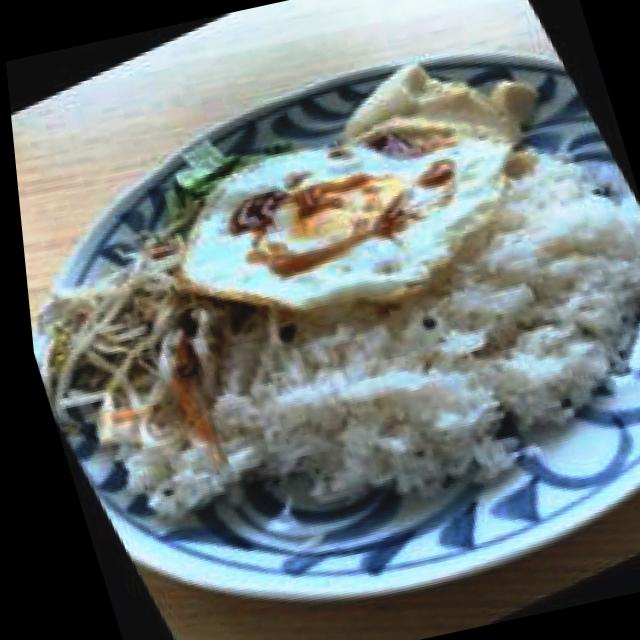fried_eggs: (145, 106, 546, 337)
mung_bean_sprouts: (24, 247, 231, 463)
rice: (53, 156, 640, 549)
